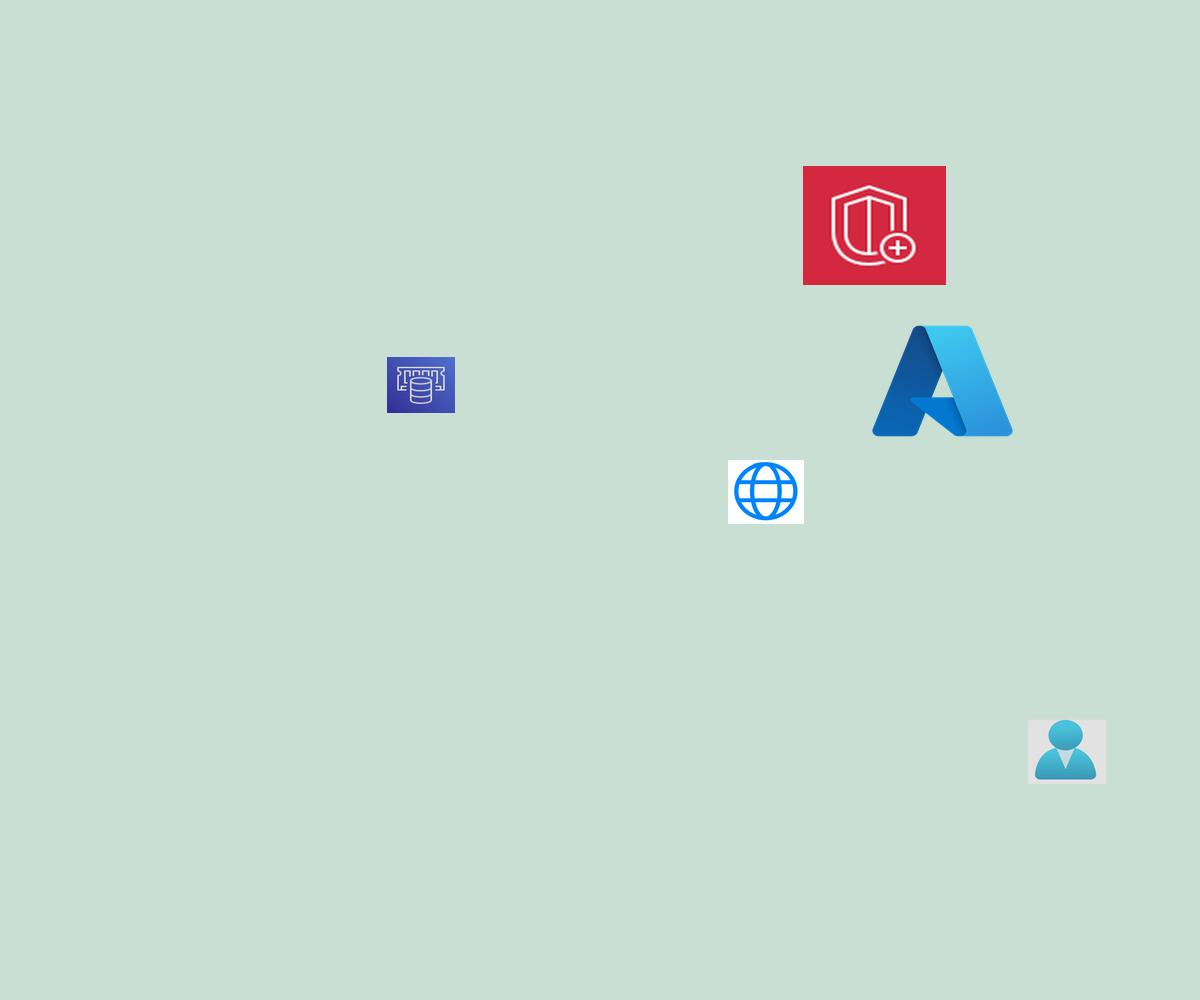AWS-ElastiCache: (387, 357, 455, 413)
AWS-Shield: (803, 166, 946, 285)
Azure_http: (728, 460, 804, 524)
Azure_services: (866, 317, 1019, 445)
Azure_users: (1028, 719, 1106, 784)
